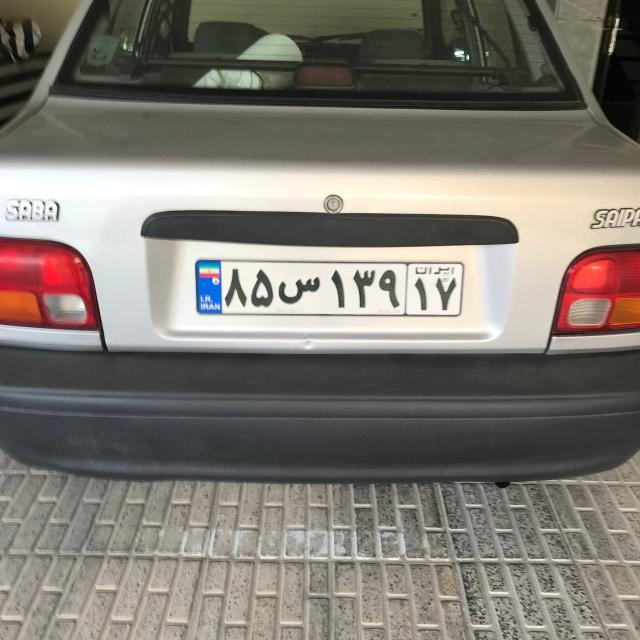Plates: (194, 261, 463, 316)
